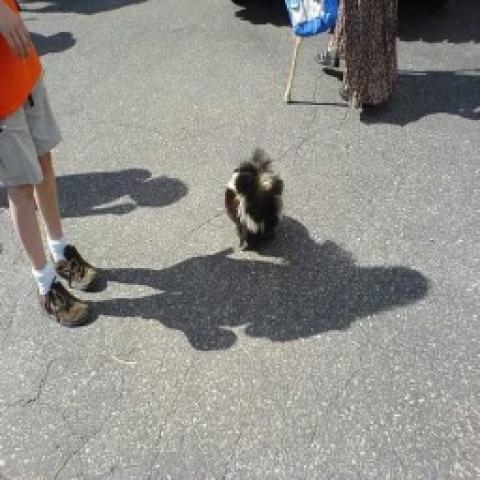small_animal: (221, 144, 285, 252)
